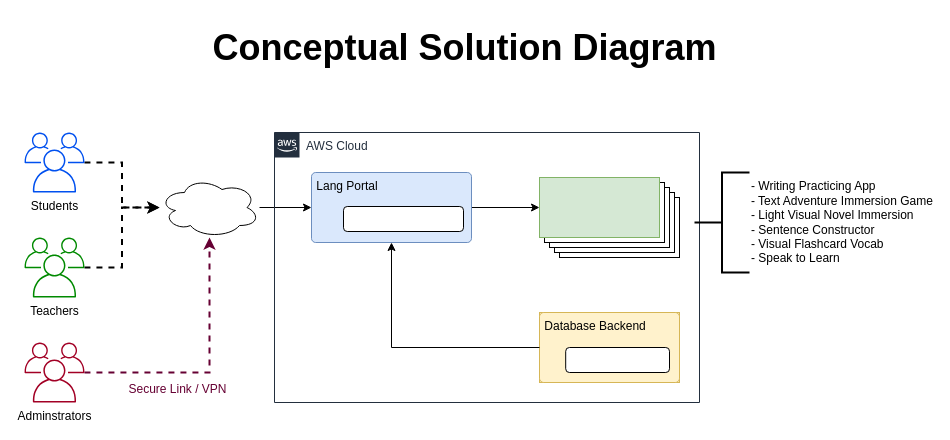
The diagram is 950 pixels wide and 440 high, and some of its shapes have lost their labels. Each missing label, with the centre of its shape:
Core 2000 words: (617,359)
Internet: (209,207)
Study Activities Backend: (599,207)
Word Group: (403,219)
